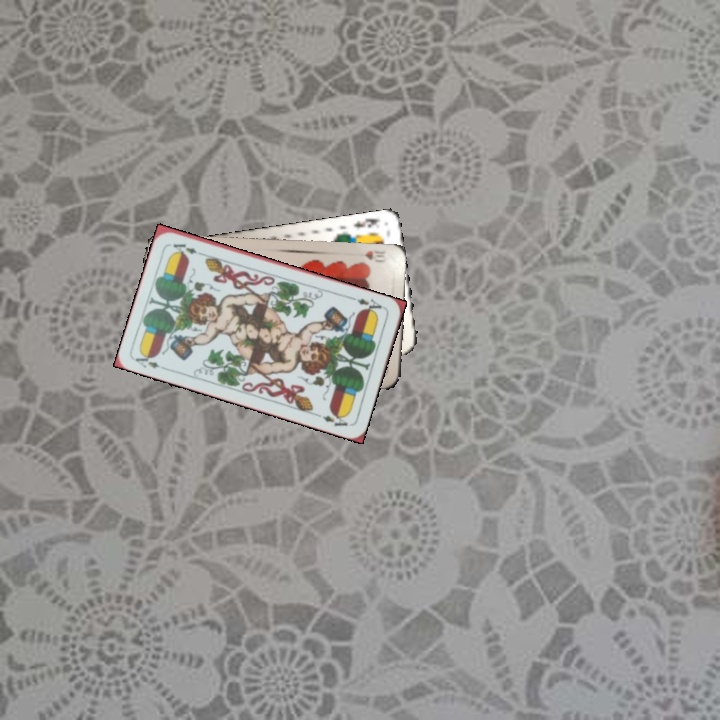EA: (348, 293, 388, 317), (131, 349, 171, 373)
EK: (350, 214, 383, 230)
H10: (361, 246, 391, 265)
